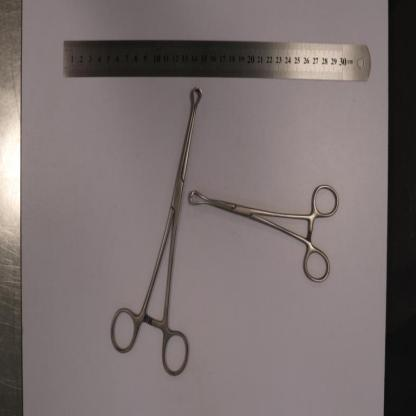8 Babcock Tissue Forceps: (112, 86, 203, 378)
Babcock Tissue Forceps: (190, 186, 339, 282)
